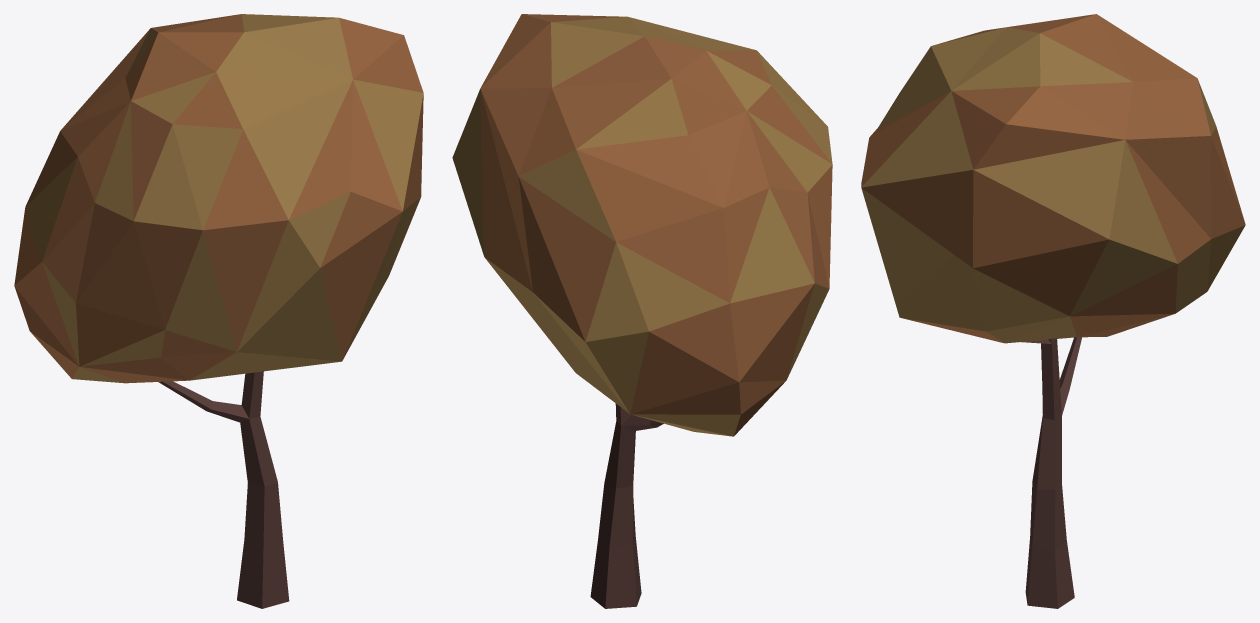
Rendered from Autumn_Tree_3.glb.
3 renders of one model, left to right at view 1: azimuth 30°, elevation 25°; view 2: azimuth 150°, elevation 25°; view 3: azimuth 270°, elevation 25°, orthographic. The views are drawn at different scales.
Parts seen in each view (by area): view 1: Oak_Tree_m_03; view 2: Oak_Tree_m_03; view 3: Oak_Tree_m_03.
Part boxes in pixels (<box>): Oak_Tree_m_03: <box>14,14,423,608</box>; Oak_Tree_m_03: <box>452,14,832,608</box>; Oak_Tree_m_03: <box>861,14,1245,608</box>.
Size of the model in its own units: 1.18 by 1.87 by 1.18.
